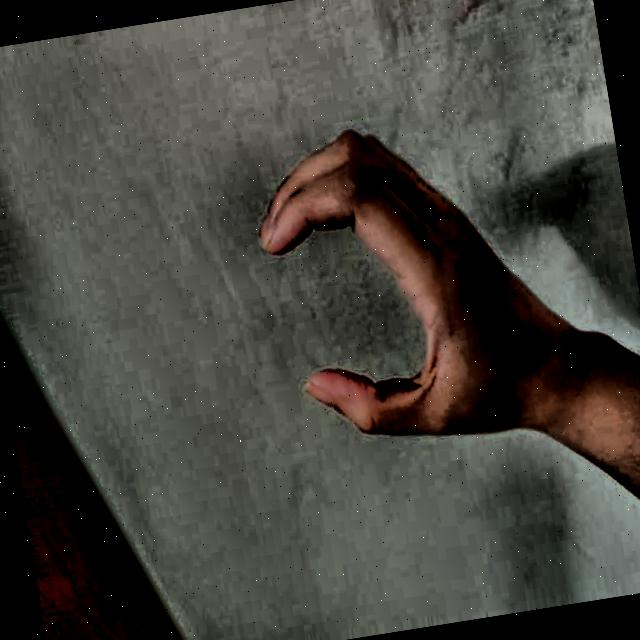A: (218, 62, 546, 506)
